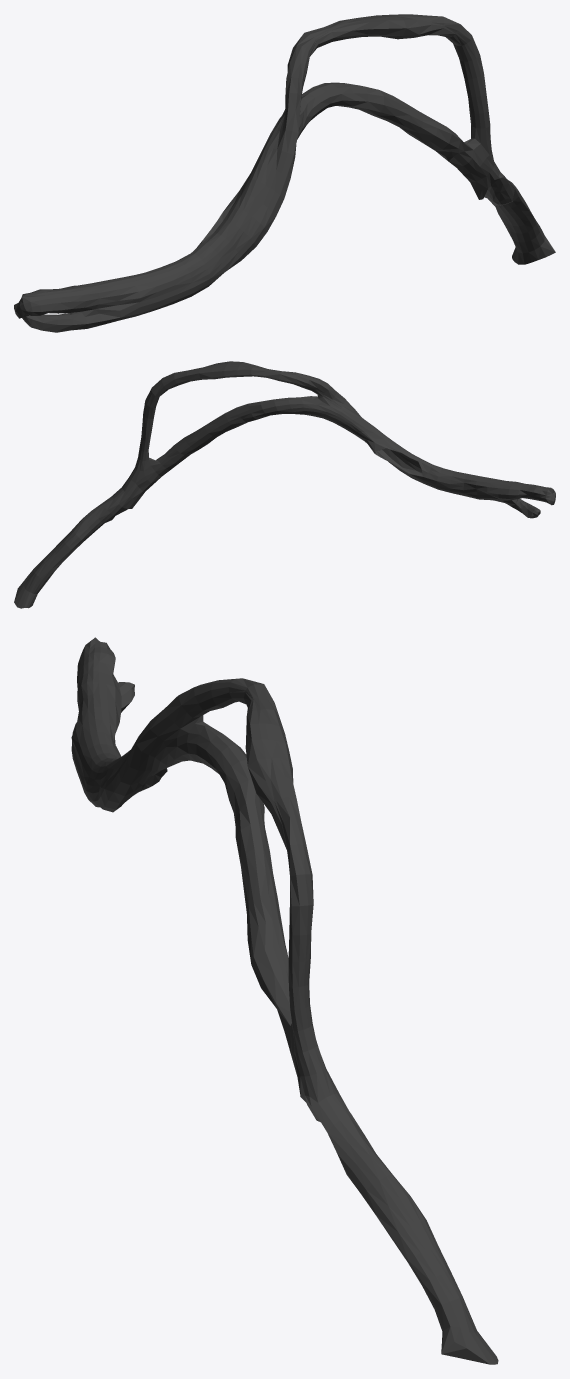
File: Heart_brachiocephalic_trunk_others.glb
3 views of the same model, one above another, from view 1: azimuth 30°, elevation 25°; view 2: azimuth 150°, elevation 25°; view 3: azimuth 270°, elevation 25° (orthographic). The views are drawn at different scales.
Visible parts, largest first — view 1: Heart_brachiocephalic_trunk&others; view 2: Heart_brachiocephalic_trunk&others; view 3: Heart_brachiocephalic_trunk&others.
Part boxes in pixels (bbox=[...]): Heart_brachiocephalic_trunk&others: bbox=[14, 14, 555, 332]; Heart_brachiocephalic_trunk&others: bbox=[14, 361, 555, 608]; Heart_brachiocephalic_trunk&others: bbox=[71, 637, 498, 1364].
Bounding box in the file's own units: 0.8516 × 0.4408 × 0.3529.
Materials: 1 (1 with a texture image).
